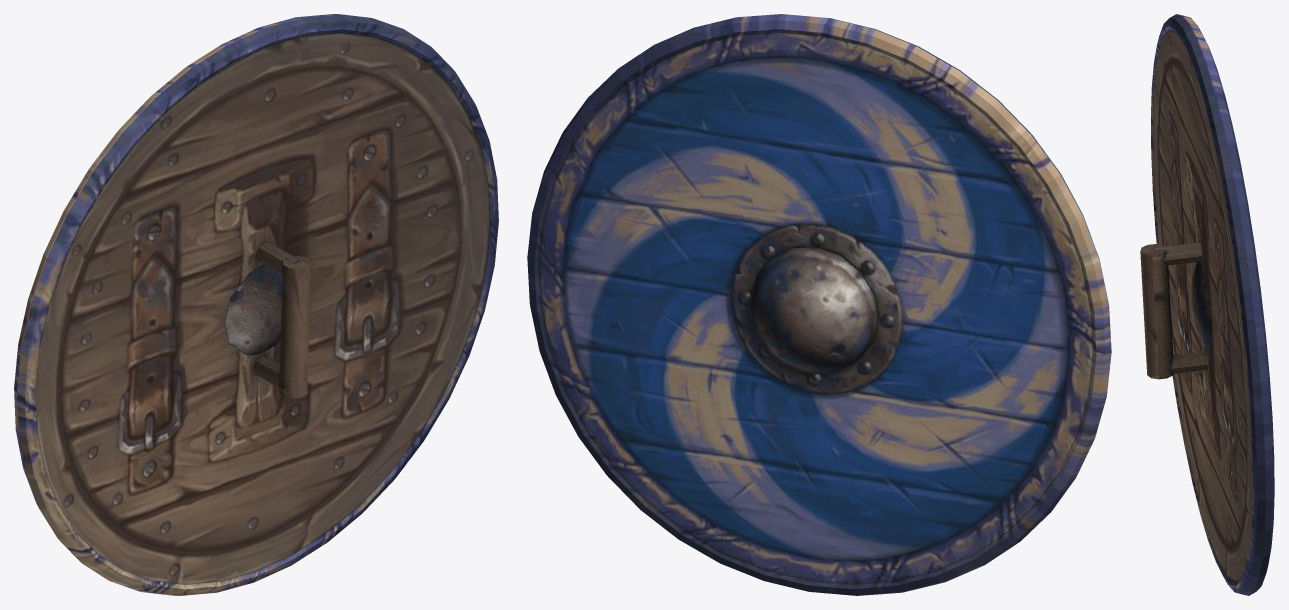
File: shield_round_blue.glb
3 views of the same model, side by side, from view 1: azimuth 30°, elevation 25°; view 2: azimuth 150°, elevation 25°; view 3: azimuth 270°, elevation 25° (orthographic). The views are drawn at different scales.
Parts seen in each view (by area): view 1: shield_boss; view 2: shield_boss; view 3: shield_boss.
Part boxes in pixels (left/top/right/bottom): shield_boss: left=14, top=14, right=498, bottom=595; shield_boss: left=527, top=14, right=1111, bottom=595; shield_boss: left=1140, top=14, right=1274, bottom=595.
Bounding box in the file's own units: 0.6756 × 0.6851 × 0.157.
1 material, 1 textured.
